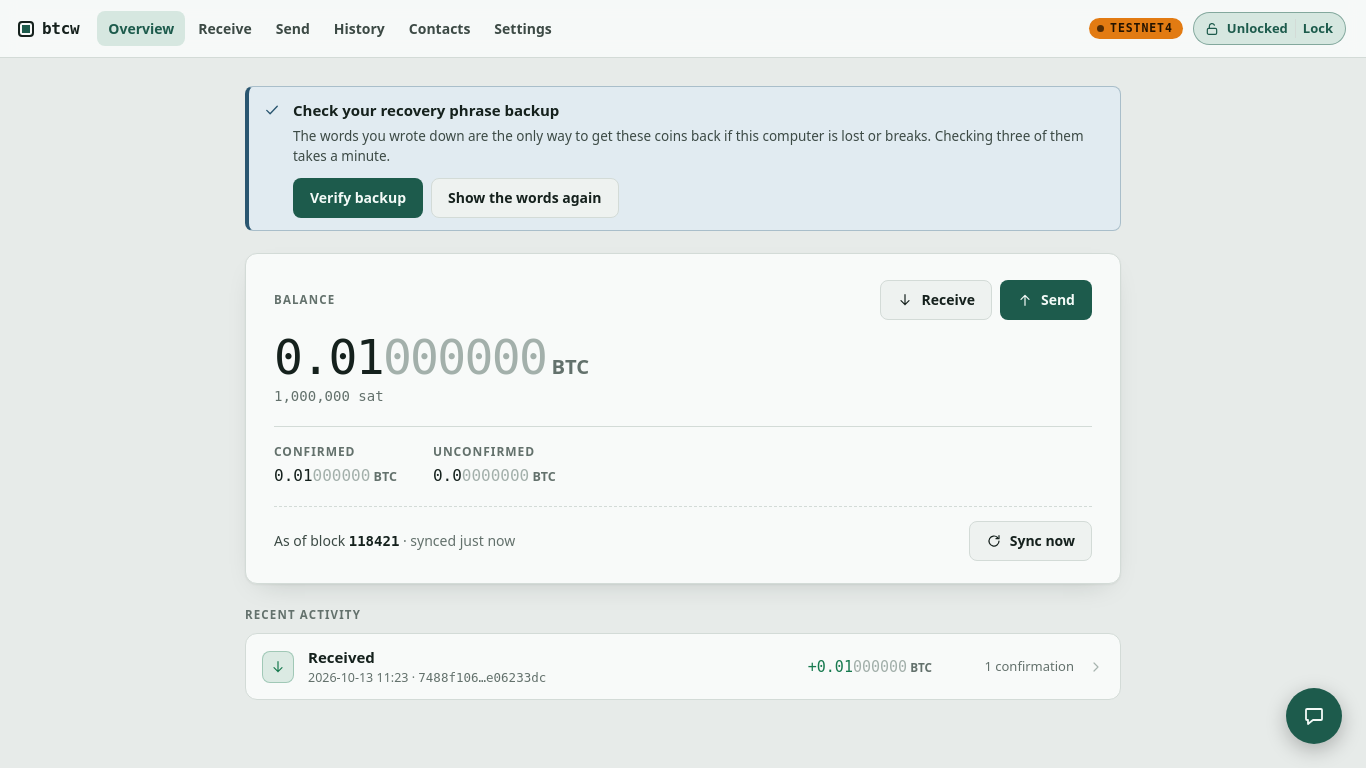
Test: assistant screen › shows a missing key as a friendly error
expect the heading "Balance" is shown: met, box [274, 291, 335, 309]
expect the text "As of block 118421 · synced just now" is shown: met, box [274, 530, 515, 552]
Click the button named "Open assistant" at (1314, 716), box [1286, 688, 1342, 744]
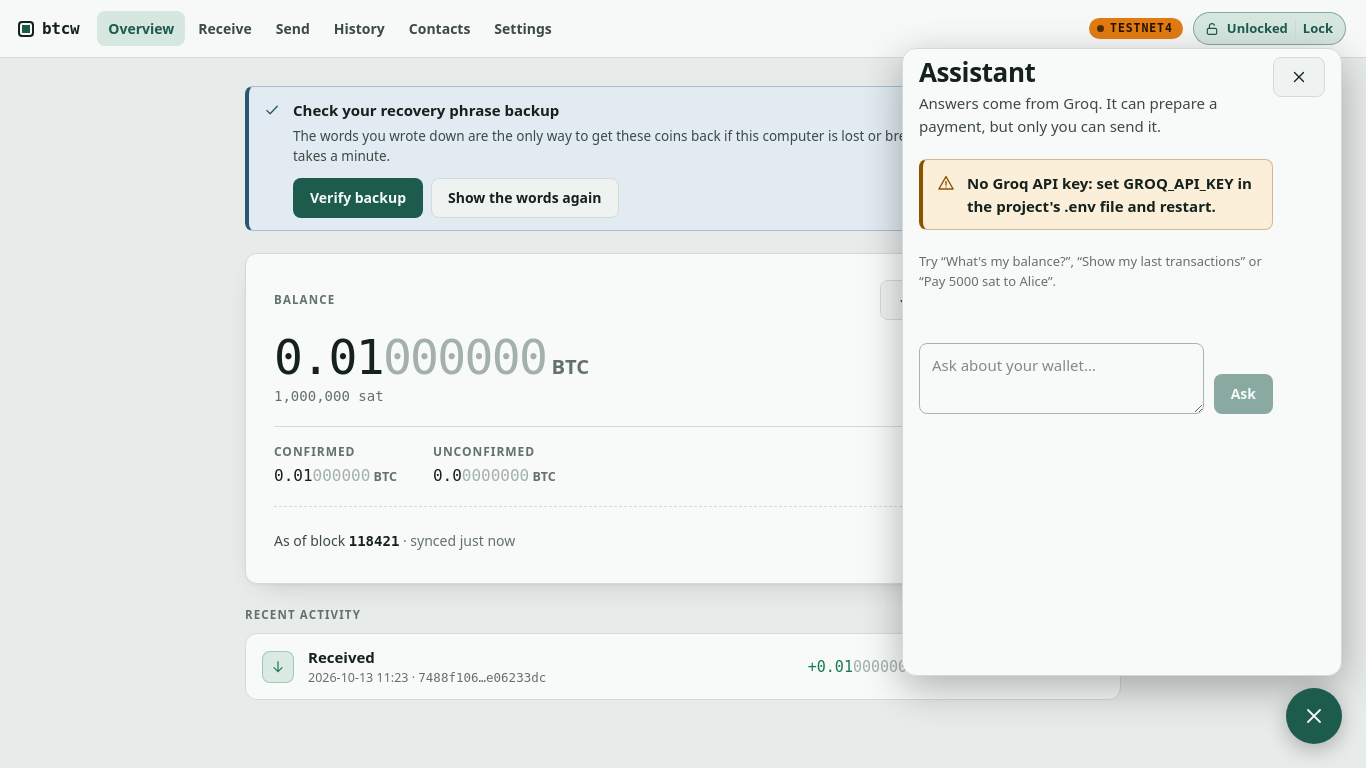
expect the heading "Assistant" is shown: met, box [919, 54, 1036, 90]
expect the text "set GROQ_API_KEY in the project's .env file" is shown: met, box [967, 173, 1252, 216]
Type "balance" into the text box named "Message" at (1061, 379), box [919, 343, 1204, 414]
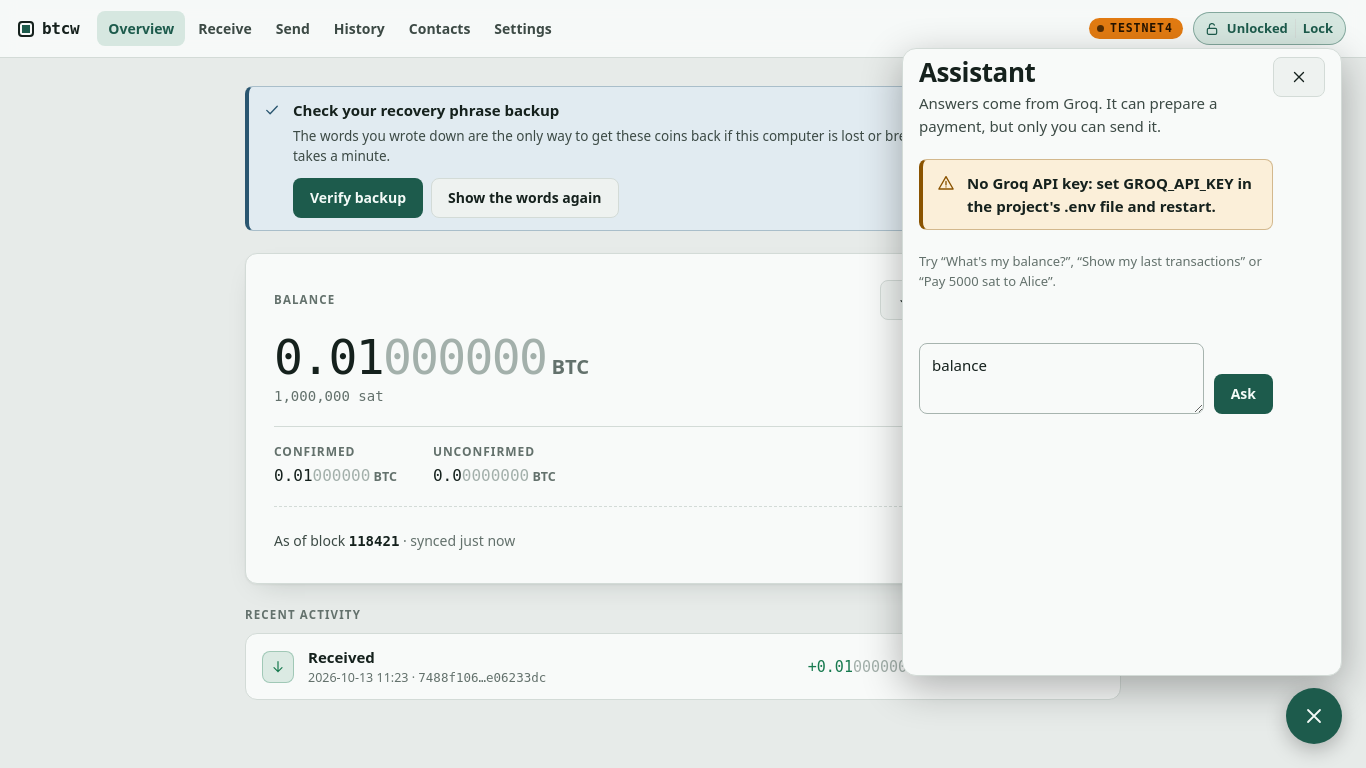
Click the button "Ask" at (1243, 394), box [1214, 374, 1273, 414]
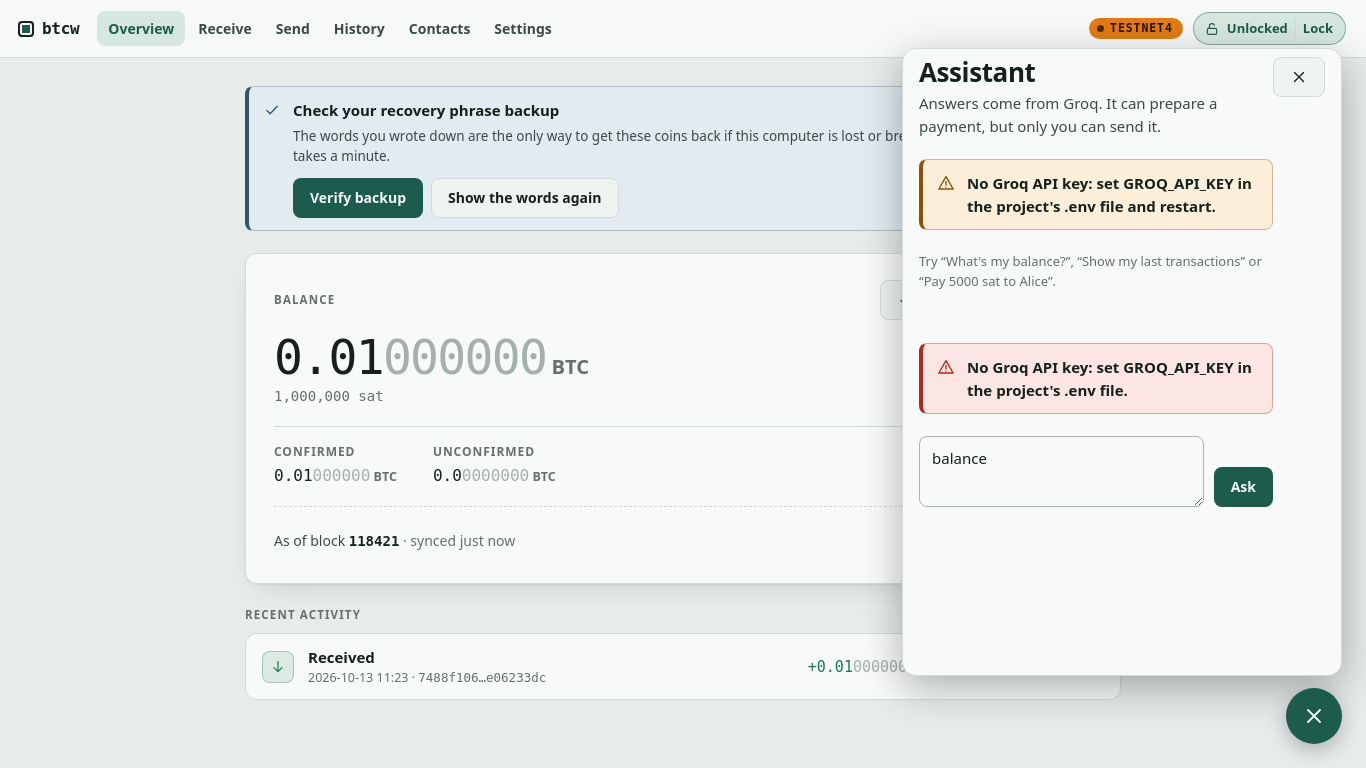
expect the message shows "GROQ_API_KEY": met, box [967, 357, 1252, 400]
